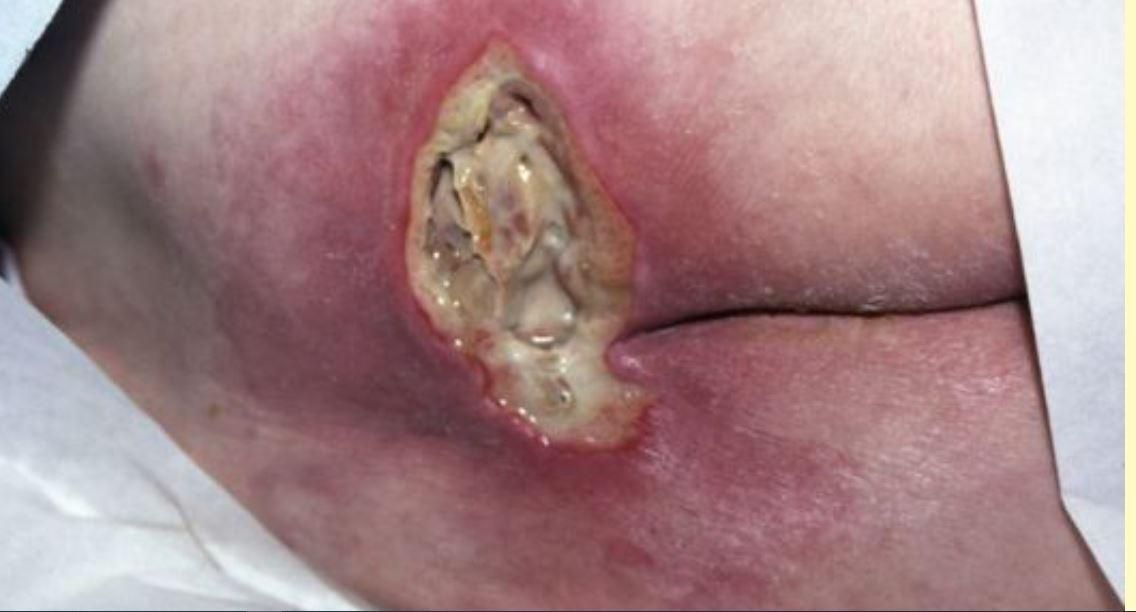Stage3: (395, 59, 738, 573)
